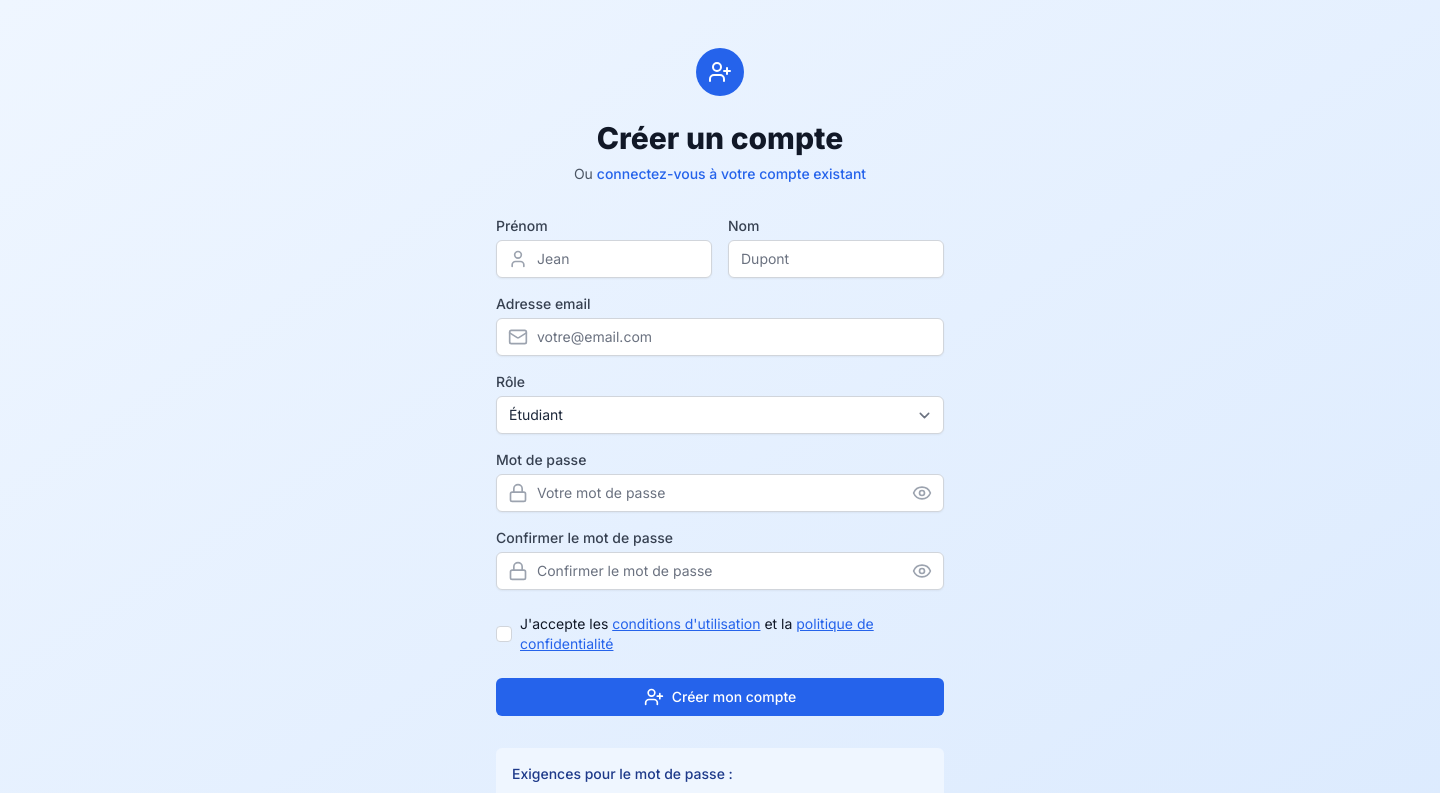
it: RegisterForm › Form Validation › shows error for password not meeting complexity requirements
Type "password123" into the password field with placeholder "Votre mot de passe" at (720, 493), box [496,474,944,512]
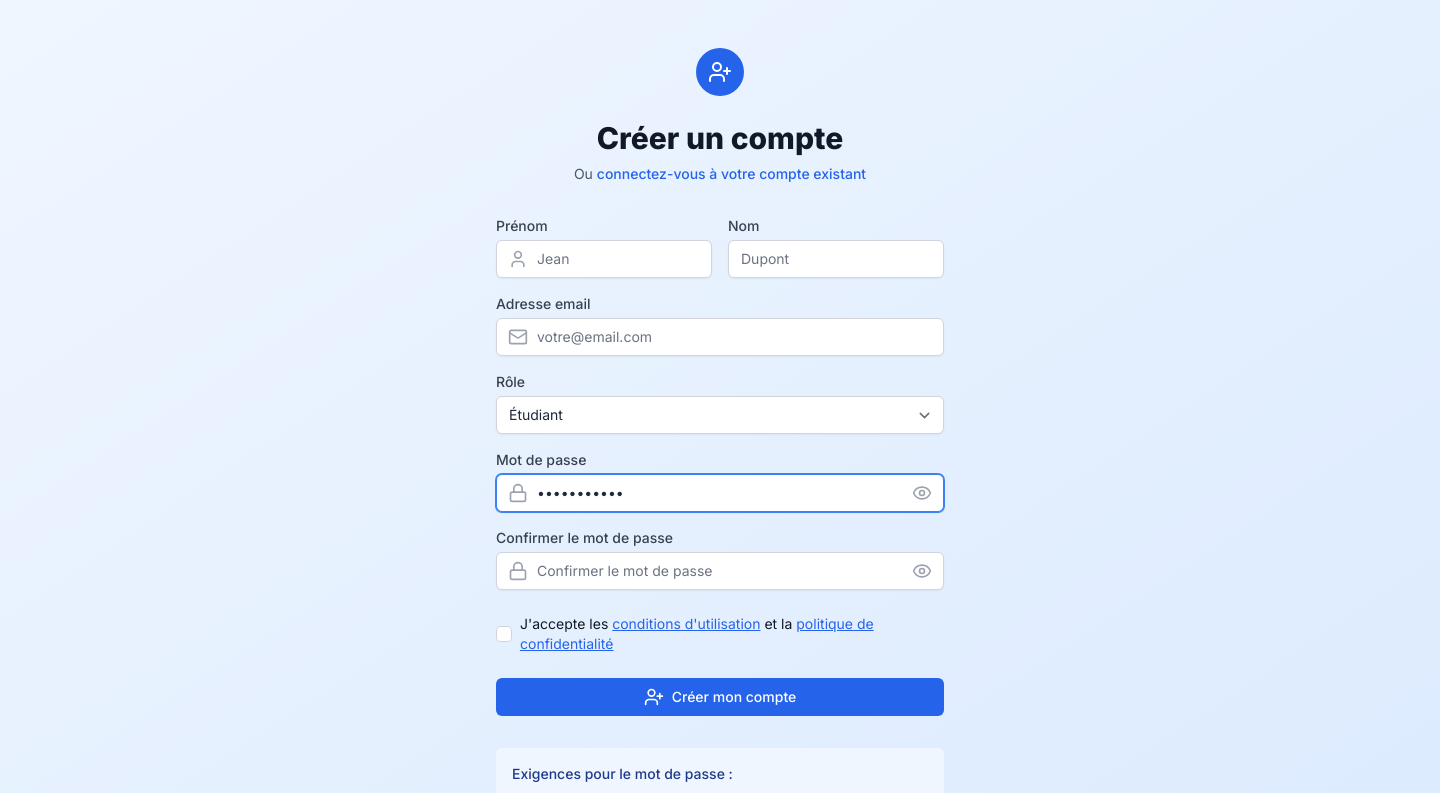
Click the button "Créer mon compte" at (720, 697), box [496,678,944,716]
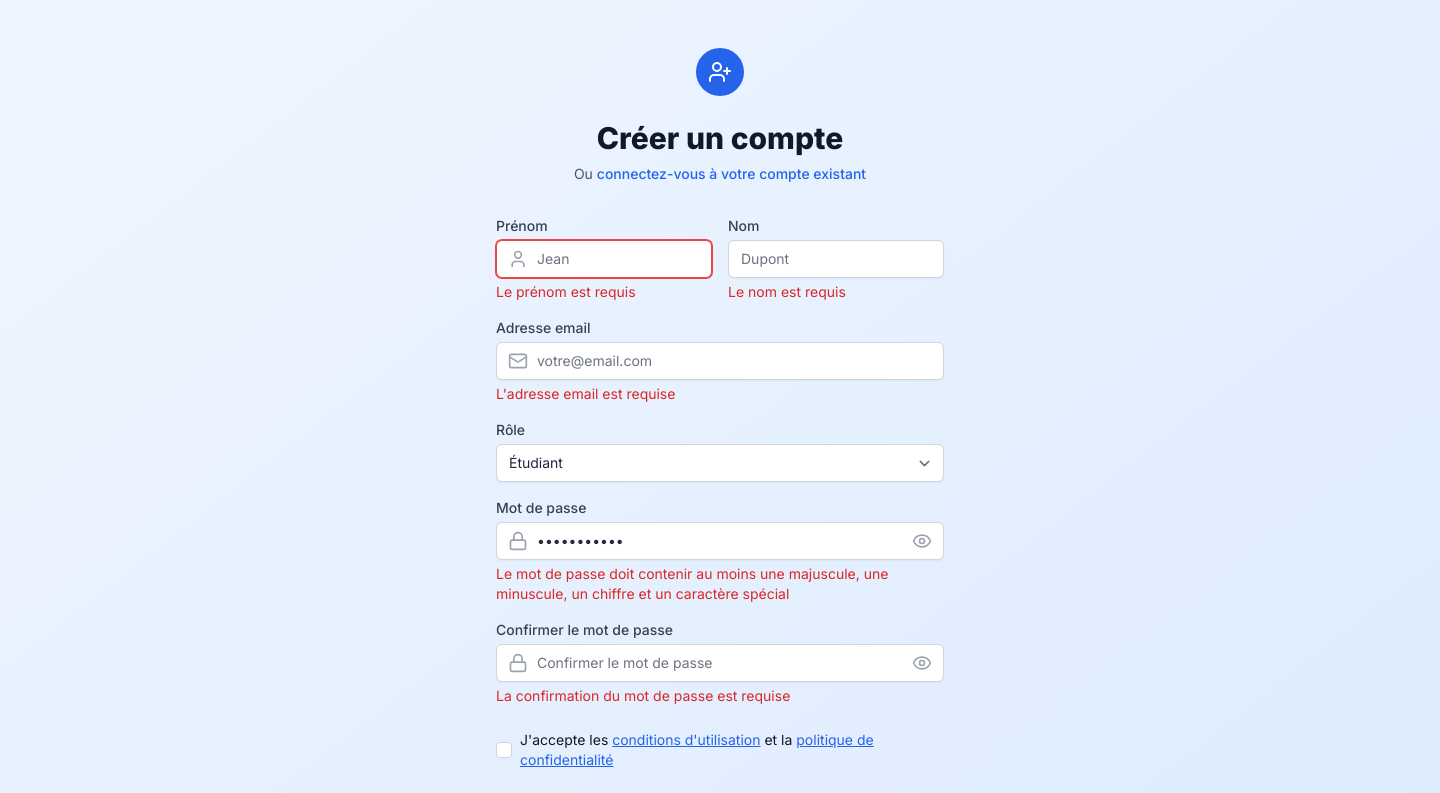
Now the text "Le mot de passe doit contenir au moins une majuscule, une minuscule, un chiffre et un caractère spécial" is shown, box [496,565,888,602]
